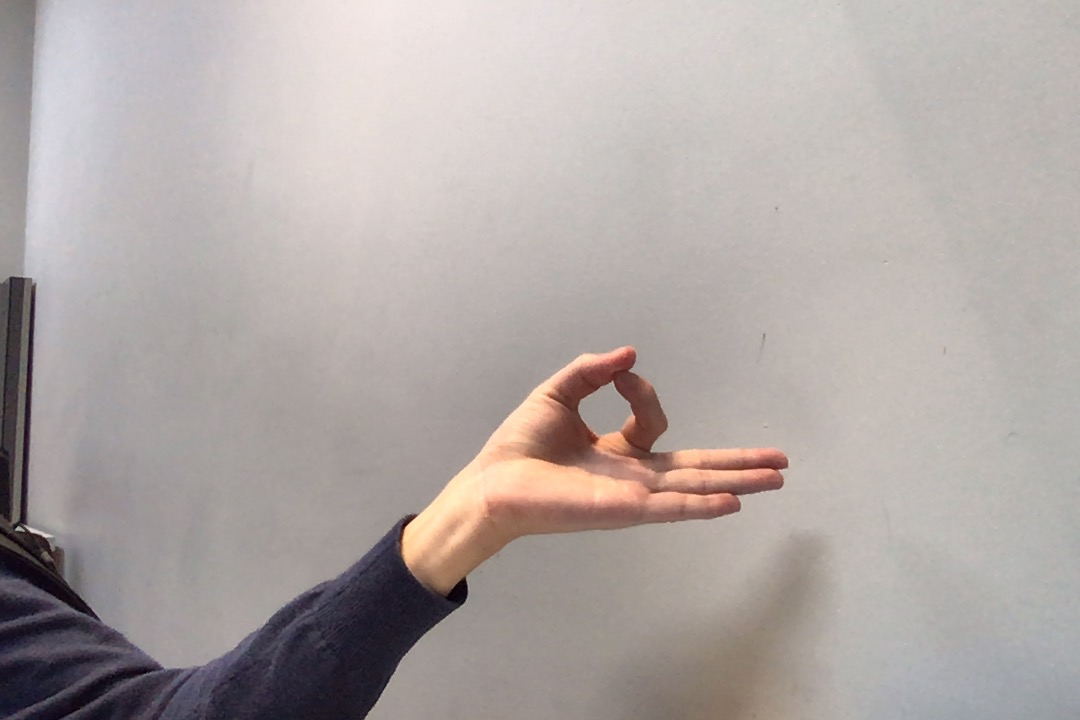oksign: (469, 335, 798, 558)
